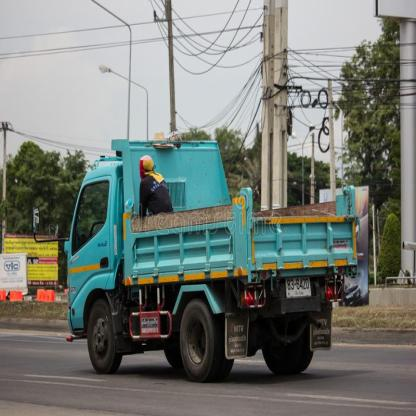dump_truck: (58, 131, 376, 386)
